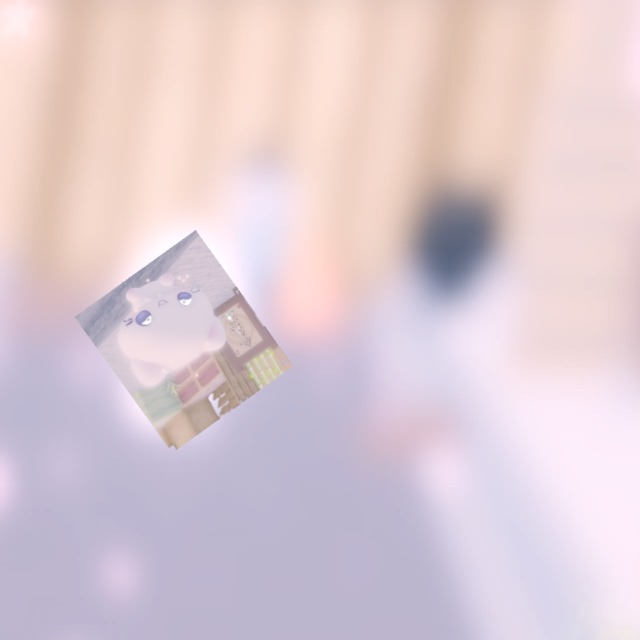urso_branco: (74, 230, 294, 453)
